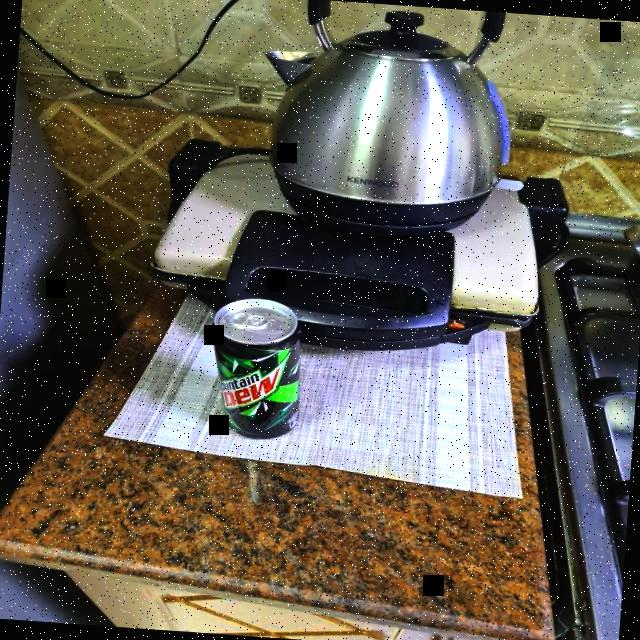can: (202, 295, 318, 441)
